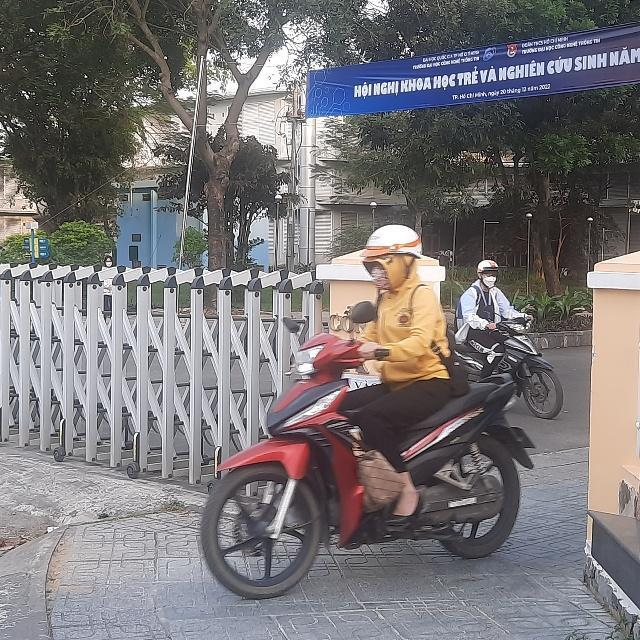Helmet: (358, 224, 426, 286)
